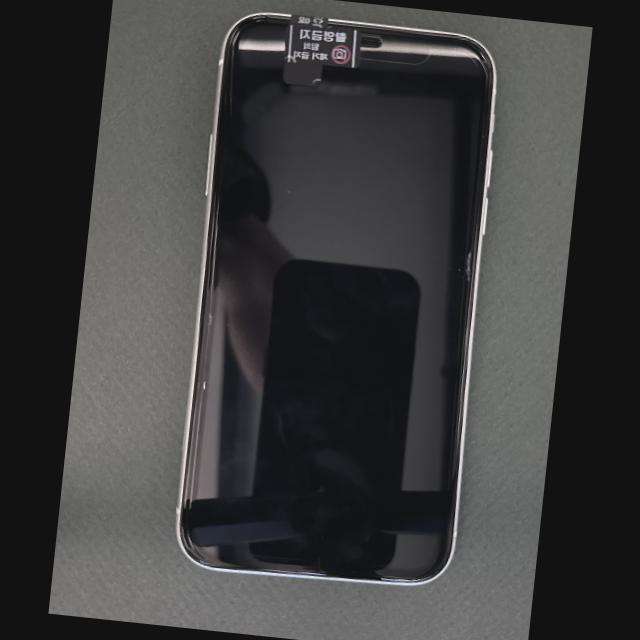phone: (174, 11, 497, 585)
sticker: (283, 24, 361, 68), (283, 62, 321, 87)
